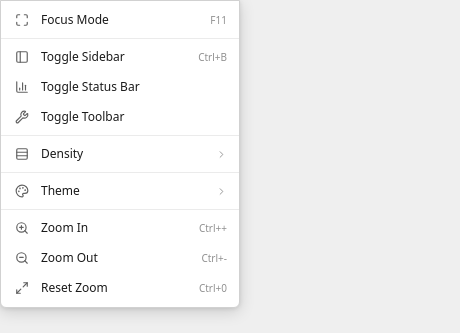
ViewMenu › Density Switcher › should show checkmark on current density mode
Hover over the text "Density": (62, 154) [15,145,227,162]
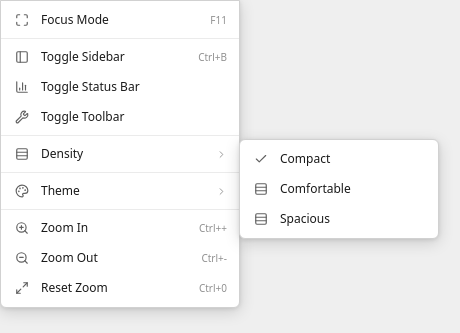
Now the text "Compact" is shown, box [280,150,330,167]
